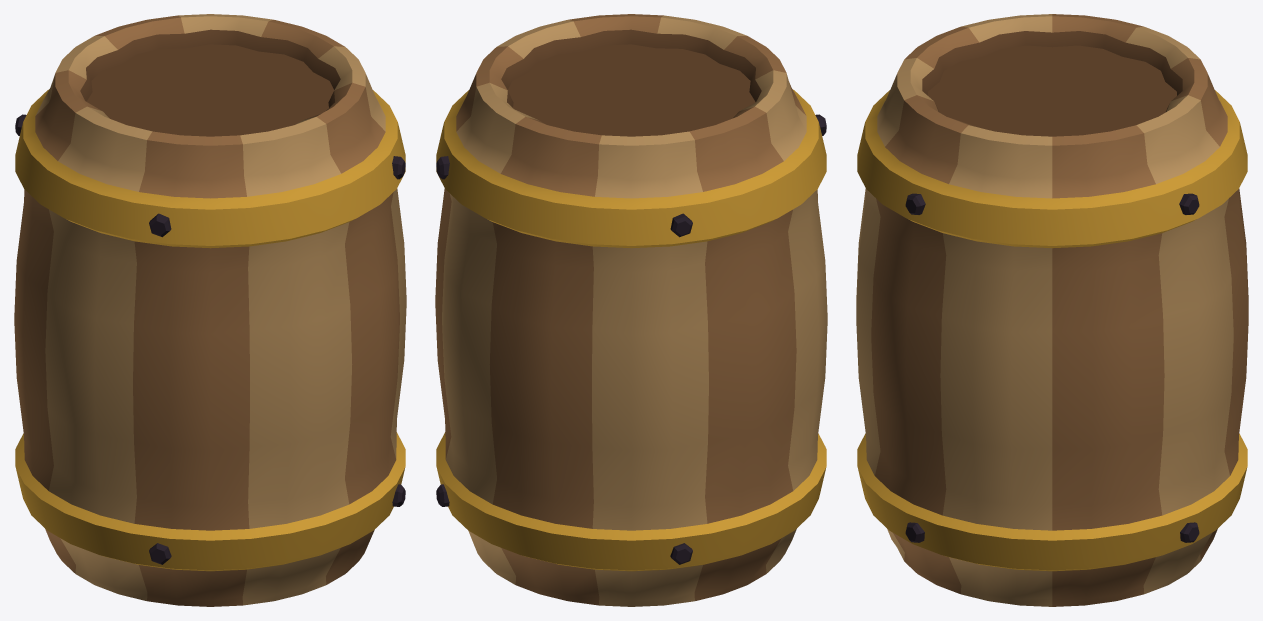
Rendered from Barrel_01.glb.
The picture shows the model from 3 angles, left to right: view 1: azimuth 30°, elevation 25°; view 2: azimuth 150°, elevation 25°; view 3: azimuth 270°, elevation 25°; orthographic projection.
Visible parts, largest first — view 1: Barrel_01; view 2: Barrel_01; view 3: Barrel_01.
Part boxes in pixels (x1,y1,x2,y2): Barrel_01: [14, 14, 406, 606]; Barrel_01: [435, 14, 827, 606]; Barrel_01: [856, 14, 1248, 606].
Size of the model in its own units: 2.04 by 2.69 by 2.05.
